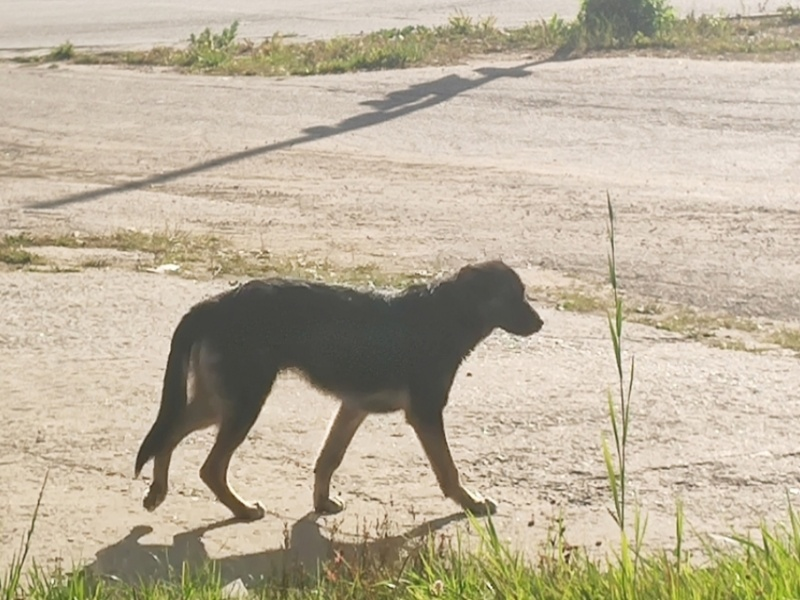dog: (123, 255, 545, 533)
